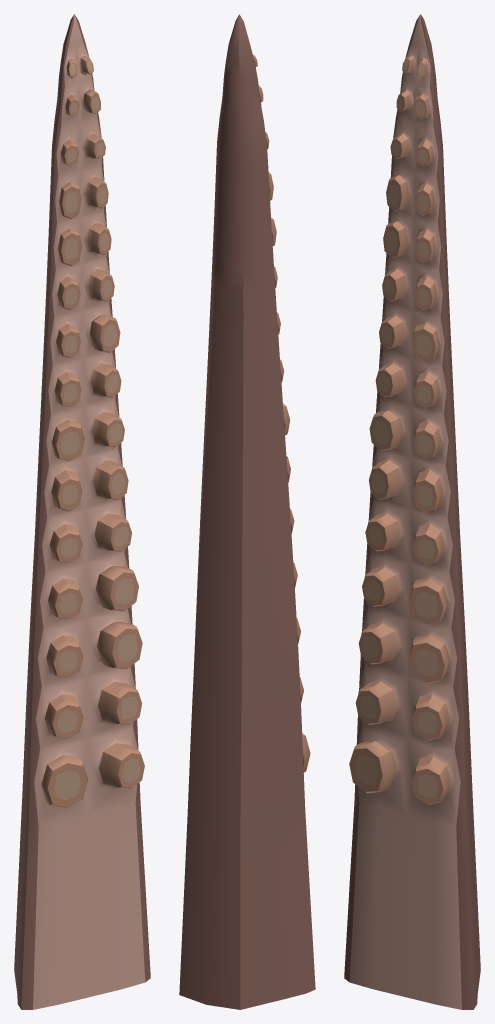
Rendered from enemy-tentacle.glb.
3 renders of one model, left to right at view 1: azimuth 30°, elevation 25°; view 2: azimuth 150°, elevation 25°; view 3: azimuth 330°, elevation 25°, orthographic.
Parts seen in each view (by area): view 1: Enemy_Tentacle; view 2: Enemy_Tentacle; view 3: Enemy_Tentacle.
Boxes of the visible parts, x1=… form: Enemy_Tentacle: x1=14, y1=14, x2=150, y2=1009; Enemy_Tentacle: x1=179, y1=14, x2=315, y2=1009; Enemy_Tentacle: x1=344, y1=14, x2=480, y2=1009.
Size of the model in its own units: 0.8466 by 6.07 by 0.6721.
Materials: 1 (1 with a texture image).
